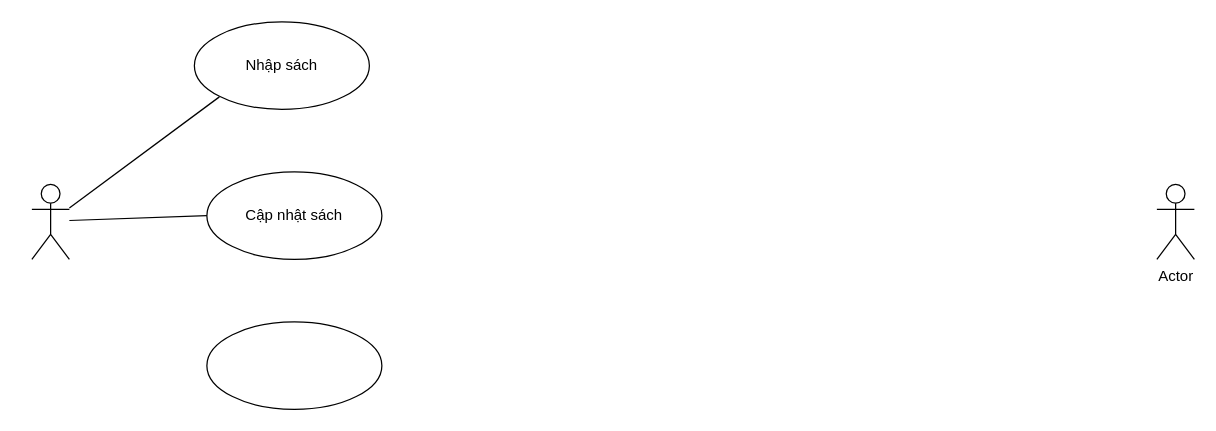
Image size: 1216x431. Some labels were removed from this diagram. The shapes that lost their labels are listed below. From the top down, each one's box as (x1, y1, x2, y2) in pixels, then its label:
(31, 183, 69, 259): Thủ Thư
(206, 321, 382, 409): Xóa sách
